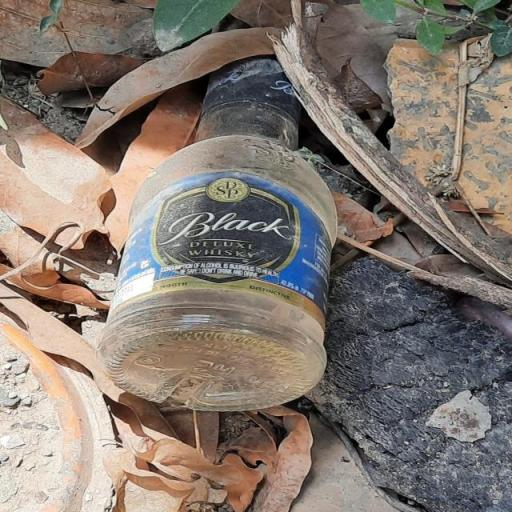glass: (80, 30, 388, 422)
